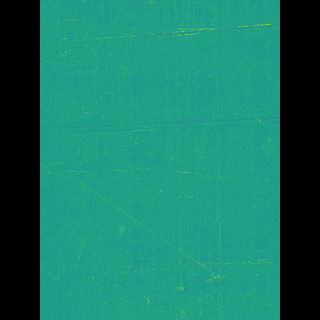Loch: (78, 0, 234, 320), (73, 18, 249, 81), (83, 253, 240, 313), (71, 112, 250, 145)
